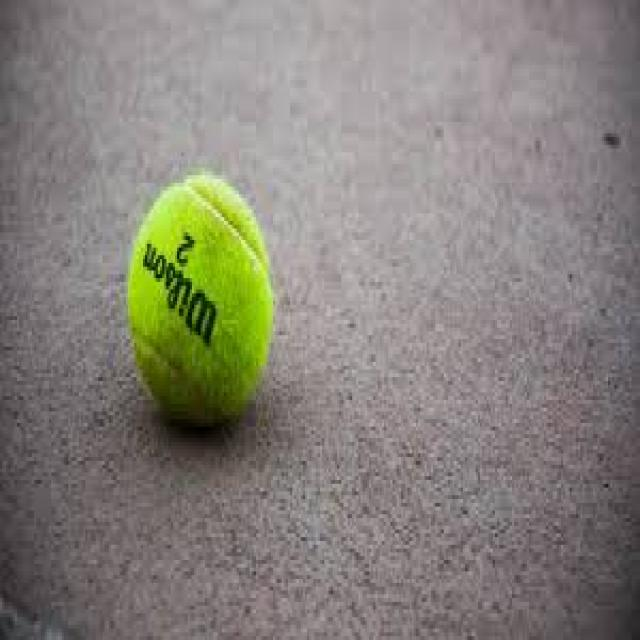ball: (130, 173, 273, 418)
